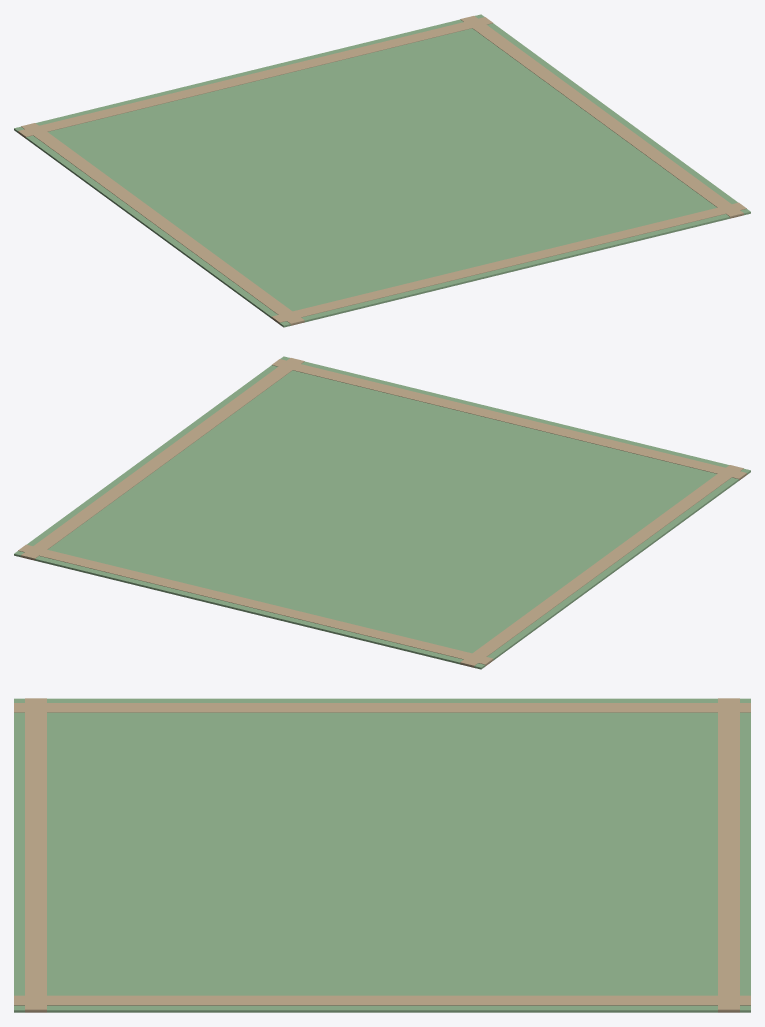
File: shop_rug_zone__garden.glb
The picture shows the model from 3 angles, top to bottom: view 1: azimuth 30°, elevation 25°; view 2: azimuth 150°, elevation 25°; view 3: azimuth 270°, elevation 25°; orthographic projection. The views are drawn at different scales.
Size of the model in its own units: 4 by 0.018 by 4.
